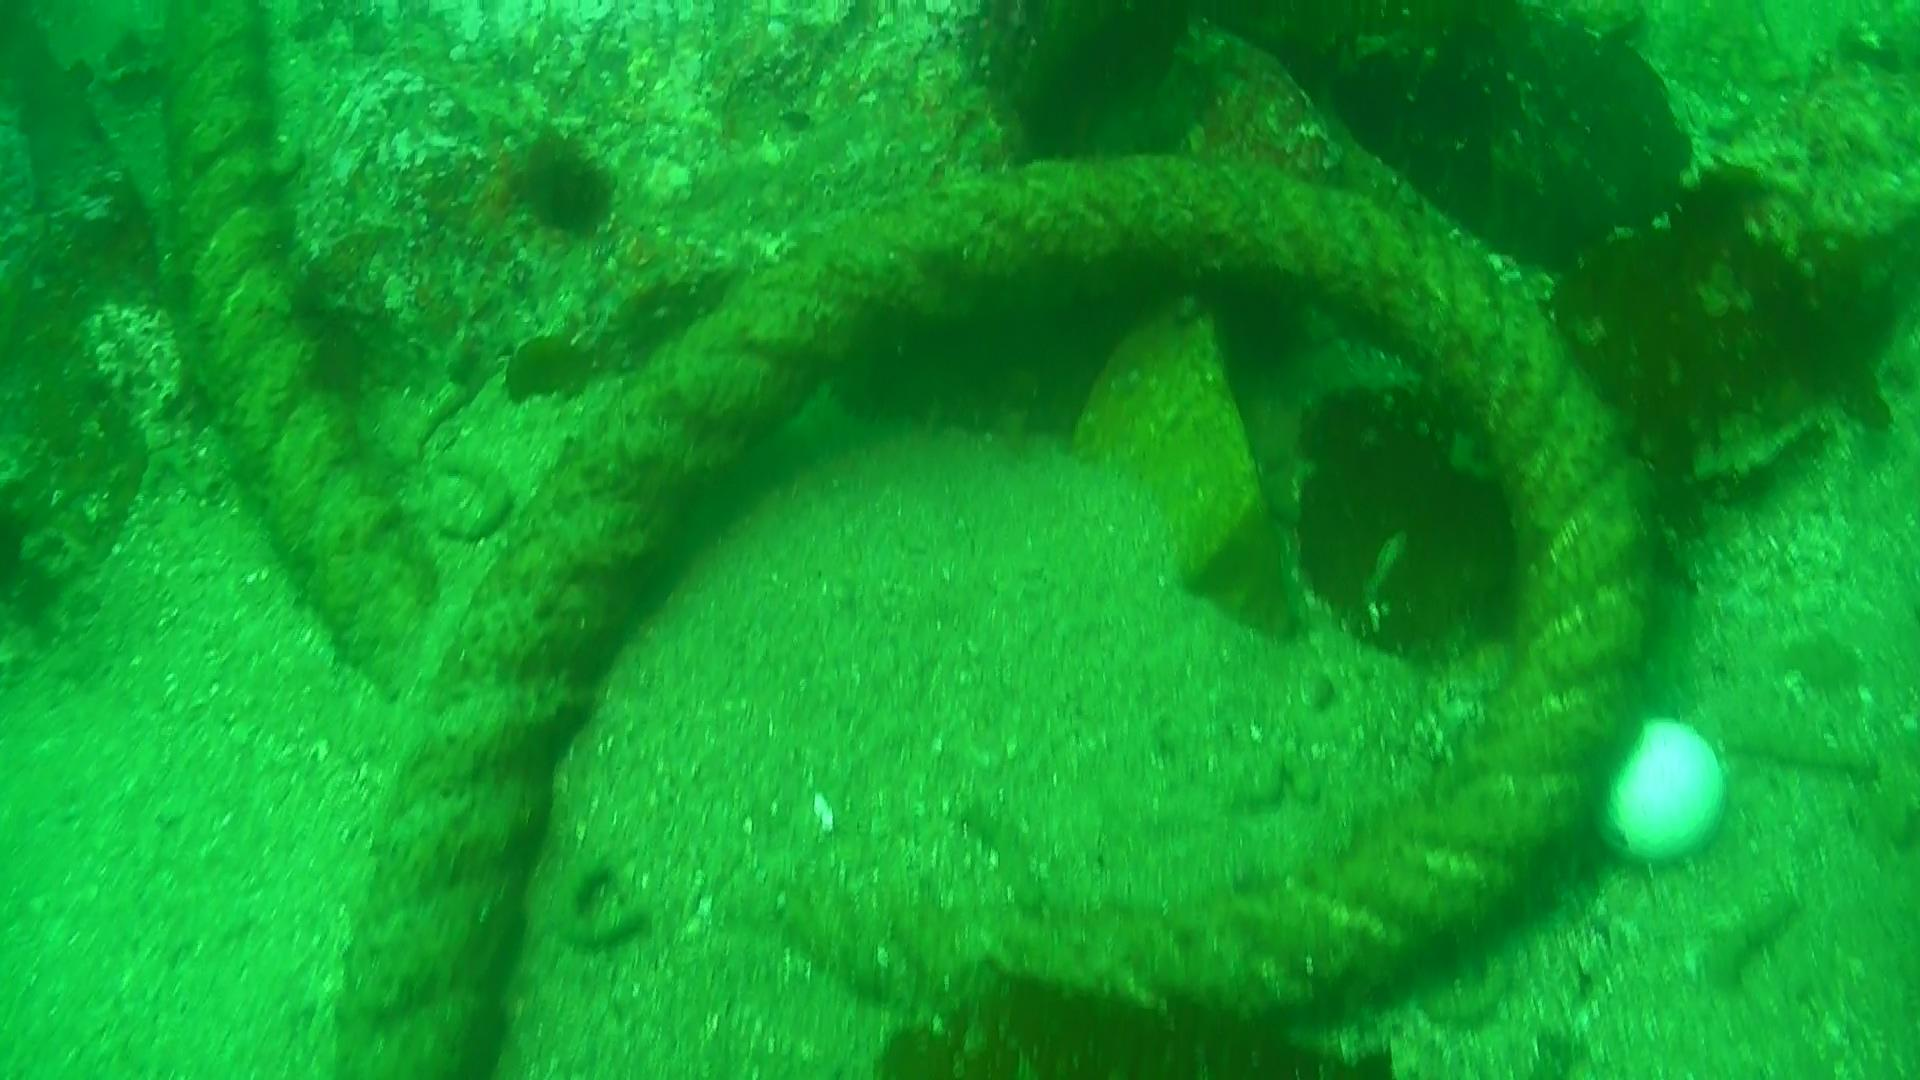rope: (160, 0, 1654, 1080)
